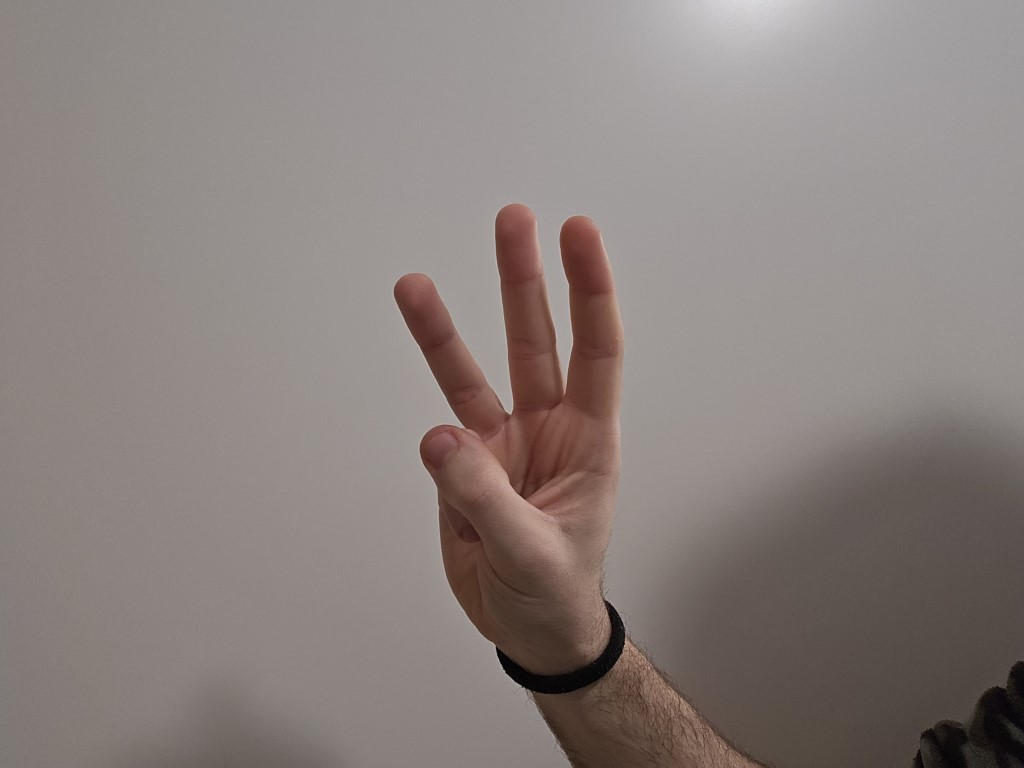w: (336, 190, 676, 662)
